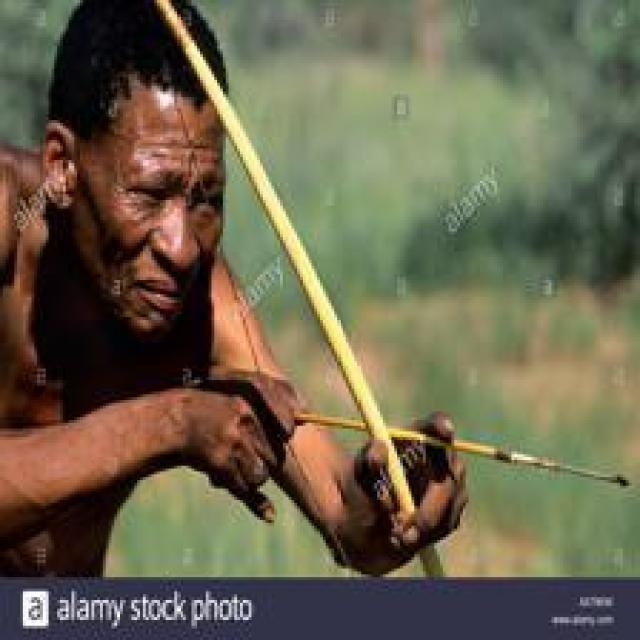X-Bow: (197, 27, 640, 596)
